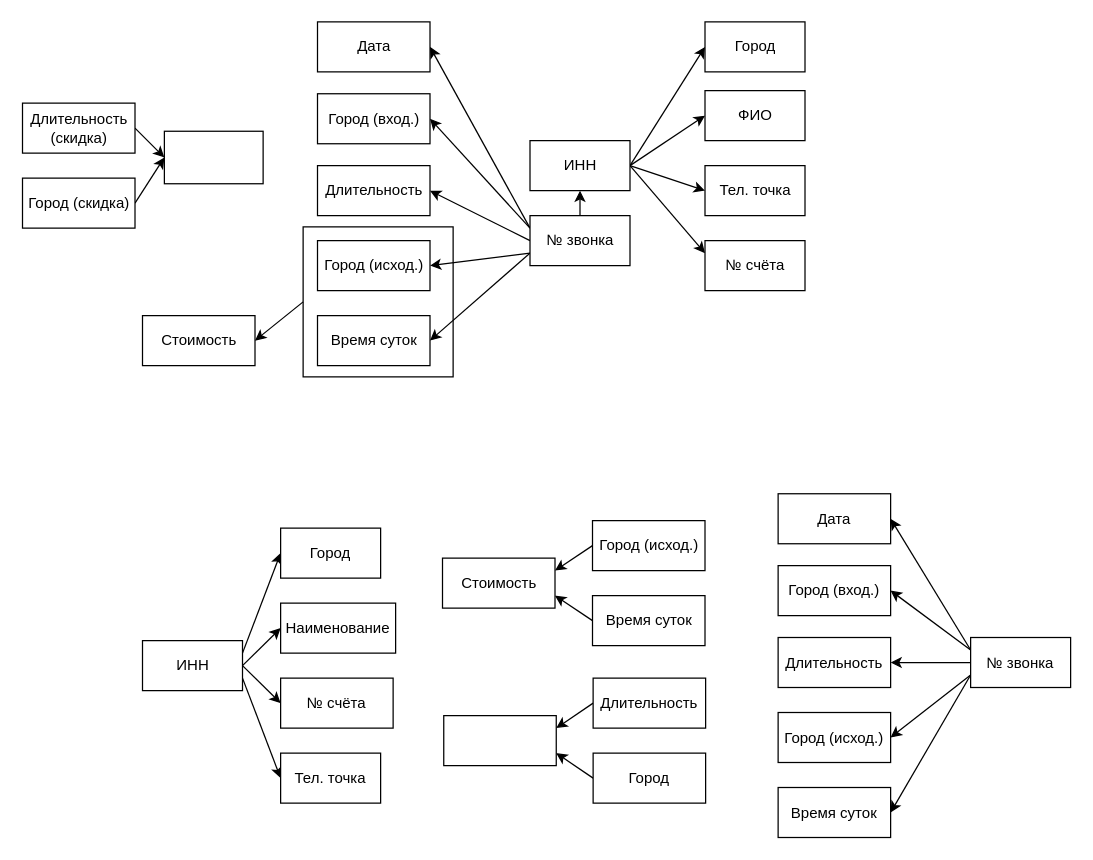
Image size: 1093x860. Some labels were removed from this diagram. The shapes that lost their labels are listed below. From the top down, each one's centre as x and y in pixels, then its label:
the point at 213,157: Цена скидки
the point at 499,740: Скидка (цена)
